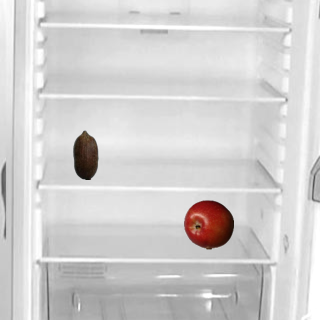Apple Braeburn: (183, 199, 233, 249)
Nut Pecan: (60, 129, 110, 179)
